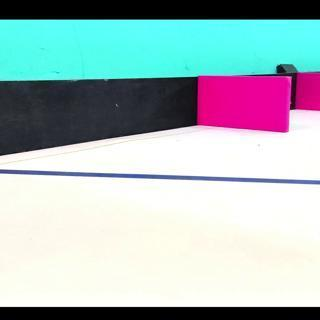xparking: (204, 82, 287, 131), (299, 77, 318, 110)
